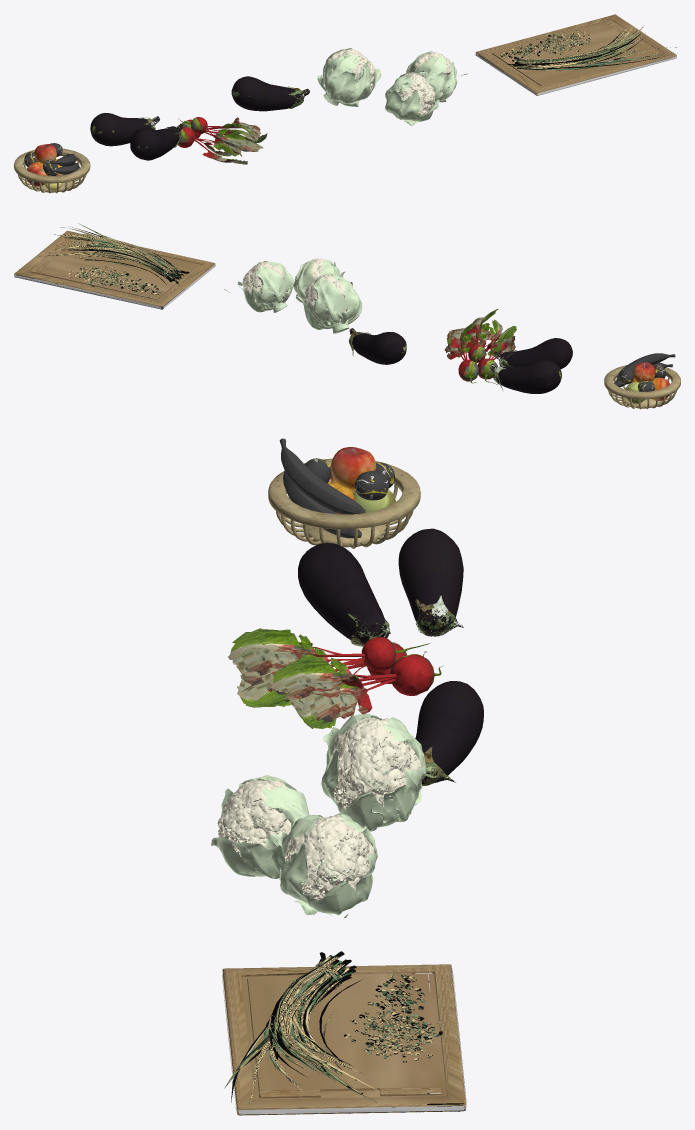
3 renders of one model, top to bottom at view 1: azimuth 30°, elevation 25°; view 2: azimuth 150°, elevation 25°; view 3: azimuth 270°, elevation 25°, orthographic. The views are drawn at different scales.
Bounding box in the file's own units: 2.31 × 0.2085 × 0.4285.
14 materials, 9 textured.
